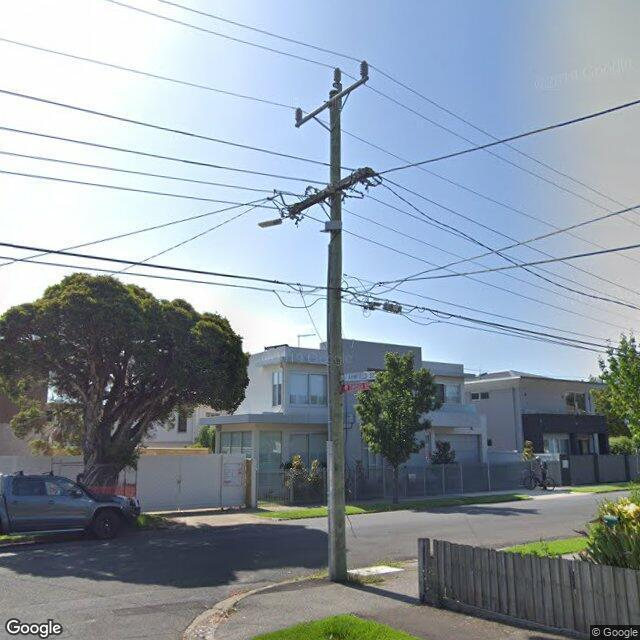HV-transmission: (294, 61, 370, 128)
crossarm: (269, 166, 383, 229), (295, 75, 369, 127)
streetlight: (258, 215, 290, 229)
timber-pole: (326, 89, 346, 582)
